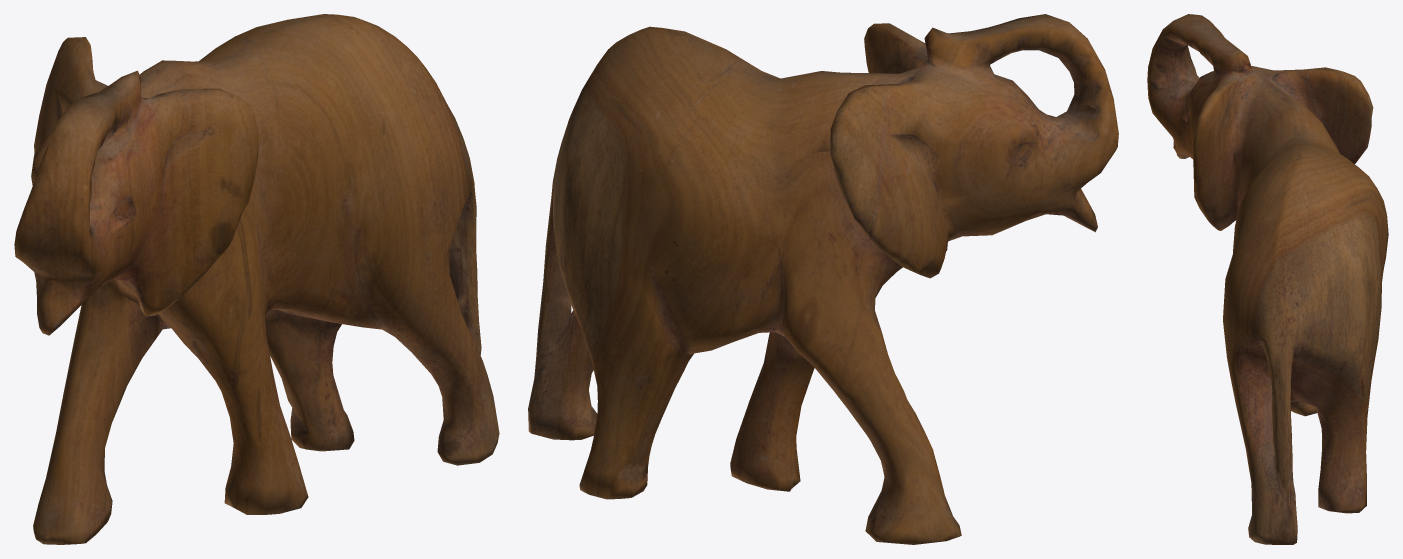
File: carved_wooden_elephant.glb
The picture shows the model from 3 angles, left to right: view 1: azimuth 30°, elevation 25°; view 2: azimuth 150°, elevation 25°; view 3: azimuth 270°, elevation 25°; orthographic projection. The views are drawn at different scales.
Parts seen in each view (by area): view 1: carved_wooden_elephant; view 2: carved_wooden_elephant; view 3: carved_wooden_elephant.
Part boxes in pixels (x1,y1,x2,y2): carved_wooden_elephant: (14,14,499,544); carved_wooden_elephant: (528,14,1118,544); carved_wooden_elephant: (1147,14,1388,544).
Bounding box in the file's own units: 0.1092 × 0.0961 × 0.0576.
1 material, 1 textured.
